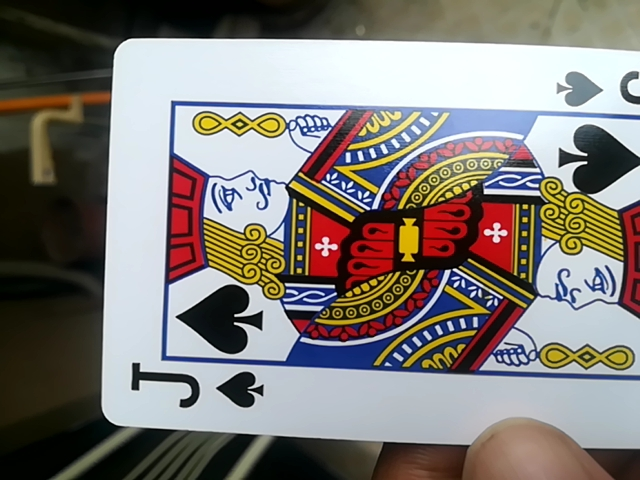ht j: (93, 41, 640, 456)
